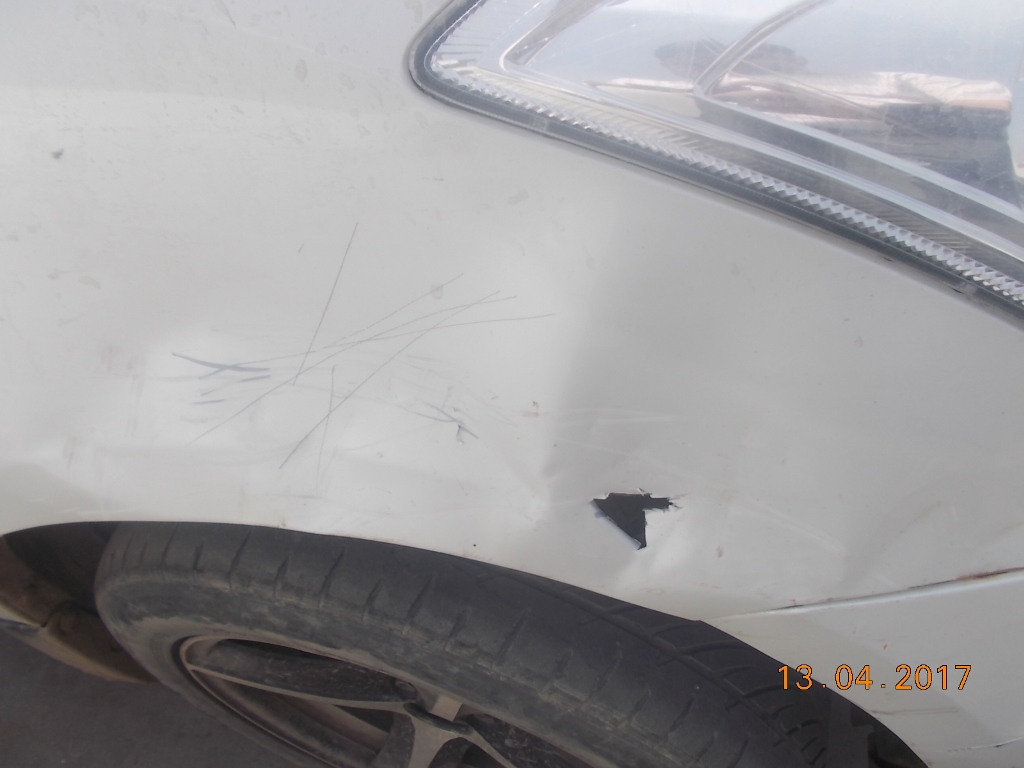Tear: (593, 475, 658, 569)
